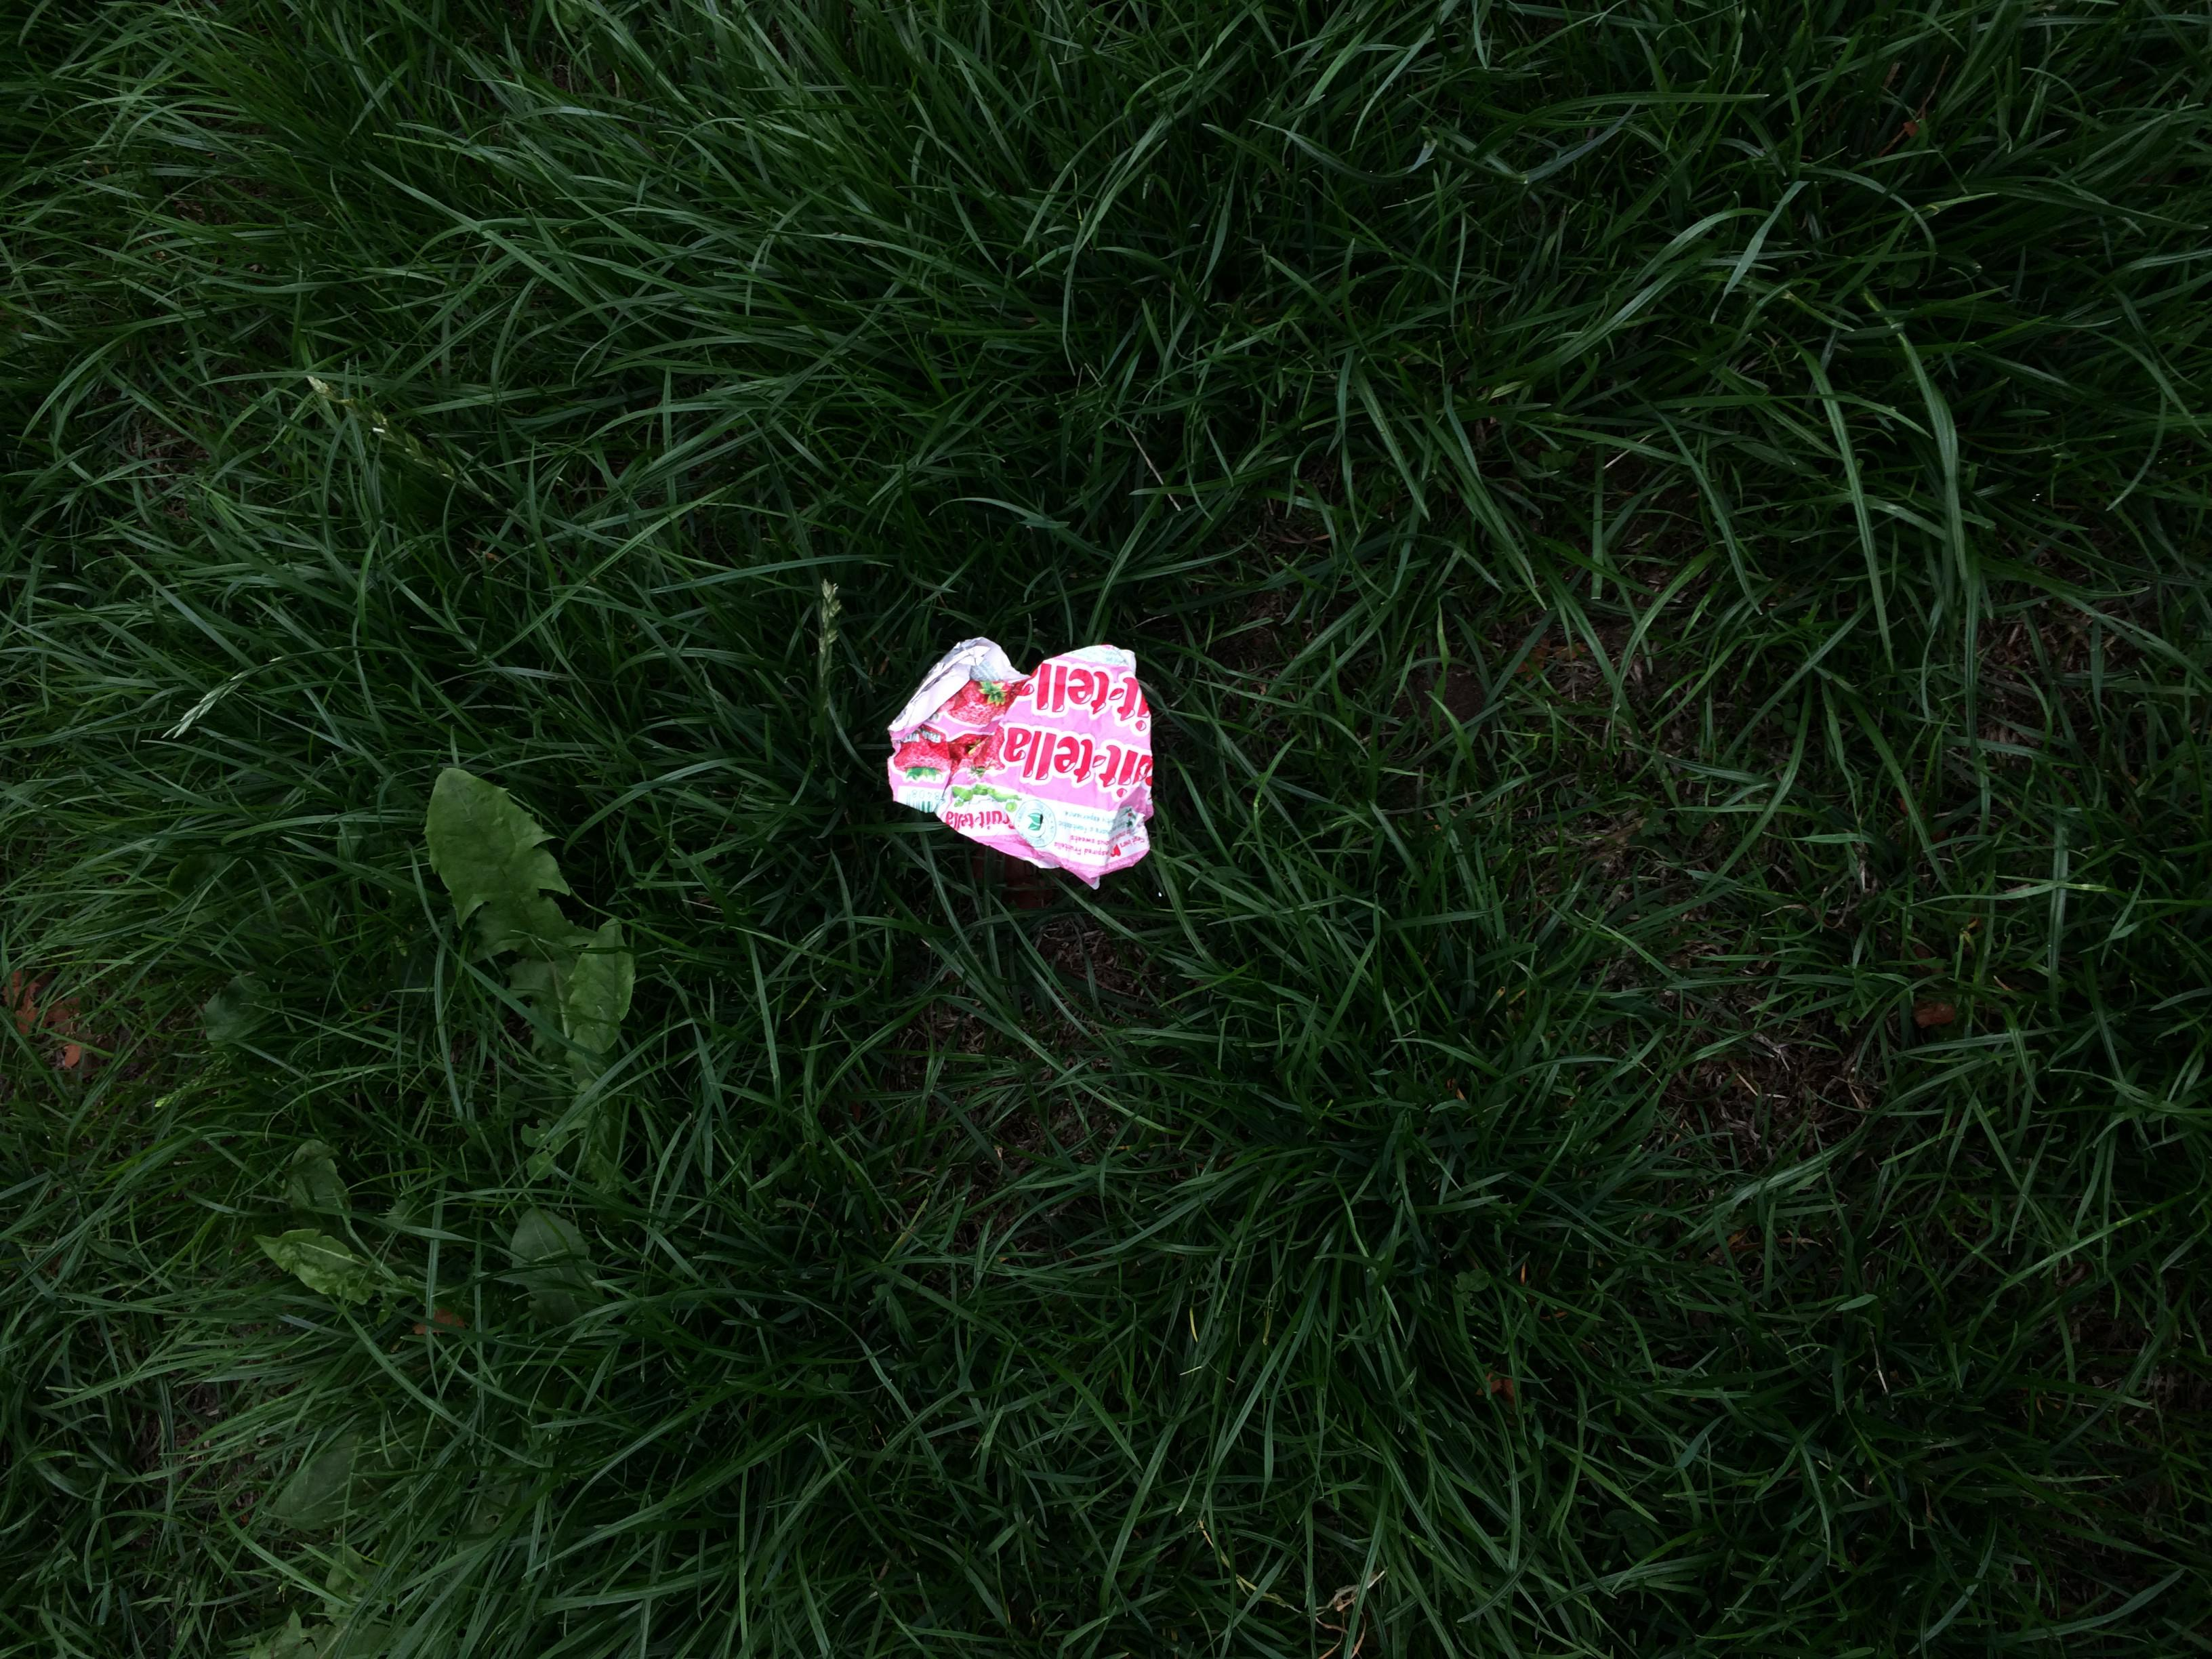Trash: (880, 634, 1169, 880)
